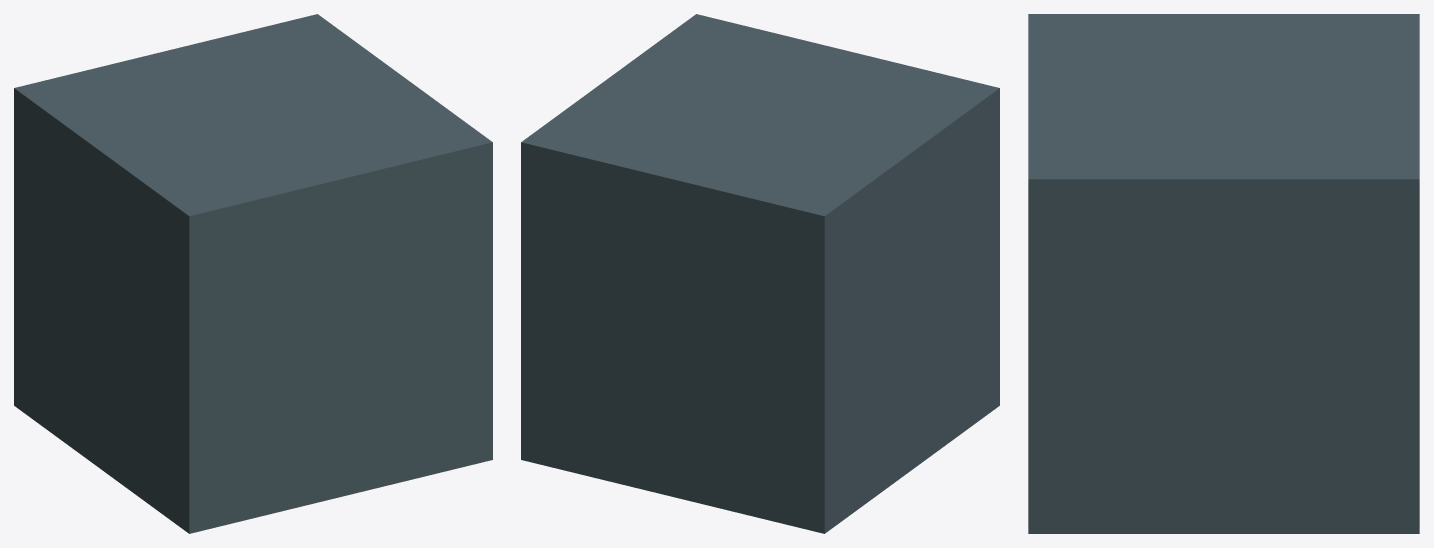
The model's file is FacadeKit_Mullion_LOD1.glb.
The picture shows the model from 3 angles, left to right: view 1: azimuth 30°, elevation 25°; view 2: azimuth 150°, elevation 25°; view 3: azimuth 270°, elevation 25°; orthographic projection. The views are drawn at different scales.
Visible parts, largest first — view 1: FacadeKit_Mullion_LOD1; view 2: FacadeKit_Mullion_LOD1; view 3: FacadeKit_Mullion_LOD1.
Boxes of the visible parts, x1=… form: FacadeKit_Mullion_LOD1: x1=14, y1=14, x2=492, y2=533; FacadeKit_Mullion_LOD1: x1=521, y1=14, x2=999, y2=533; FacadeKit_Mullion_LOD1: x1=1028, y1=14, x2=1419, y2=533.
Size of the model in its own units: 1 by 1 by 1.
